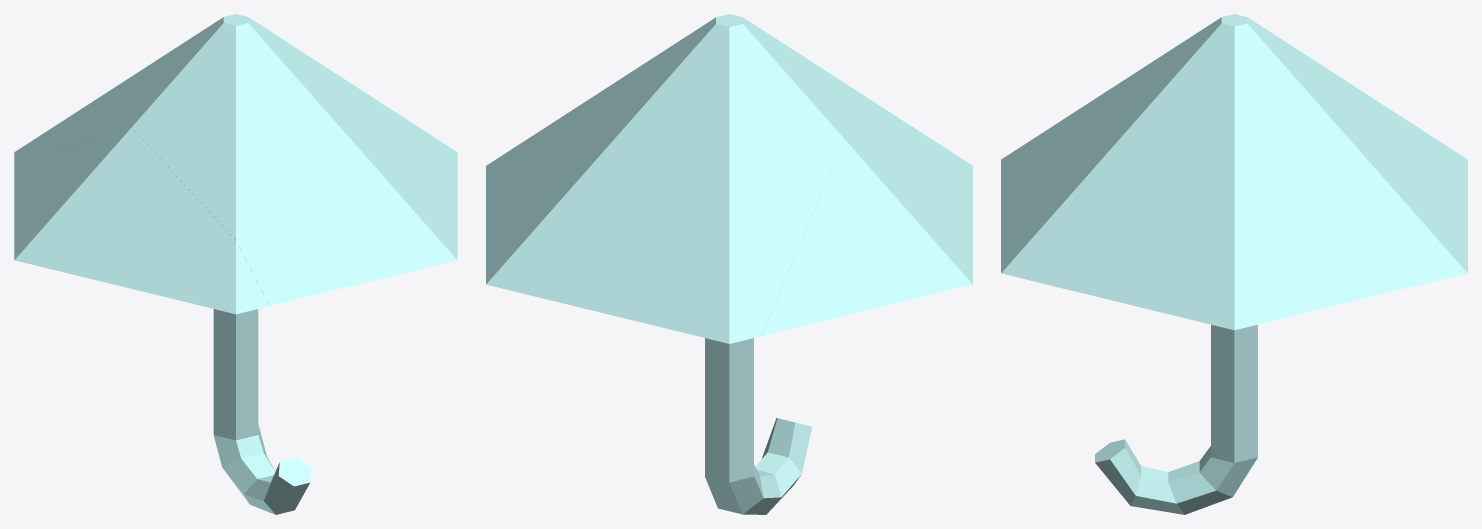
Rendered from UmbrellaBroken.fbx.
The picture shows the model from 3 angles, left to right: view 1: azimuth 30°, elevation 25°; view 2: azimuth 150°, elevation 25°; view 3: azimuth 270°, elevation 25°; orthographic projection. The views are drawn at different scales.
Parts seen in each view (by area): view 1: Umbrella_cell.002, Umbrella_cell.003, Umbrella_cell.001; view 2: Umbrella_cell.002, Umbrella_cell.003, Umbrella_cell, Umbrella_cell.001; view 3: Umbrella_cell.002, Umbrella_cell, Umbrella_cell.001, Umbrella_cell.003.
Boxes of the visible parts, x1,y1,x2,y2 form: Umbrella_cell.002: (14, 14, 457, 328); Umbrella_cell.003: (14, 127, 269, 314); Umbrella_cell.001: (213, 324, 311, 514); Umbrella_cell.002: (486, 14, 913, 361); Umbrella_cell.003: (762, 128, 972, 335); Umbrella_cell: (486, 164, 692, 334); Umbrella_cell.001: (705, 355, 812, 514); Umbrella_cell.002: (1001, 14, 1467, 346); Umbrella_cell: (1256, 158, 1467, 324); Umbrella_cell.001: (1095, 340, 1257, 514); Umbrella_cell.003: (1001, 123, 1057, 176).
Bounding box in the file's own units: 225 × 226 × 195.
